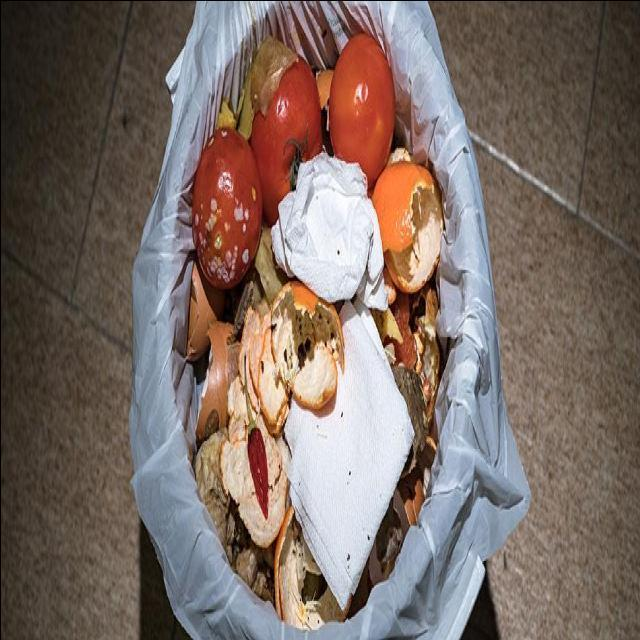Garbage: (181, 14, 452, 640)
